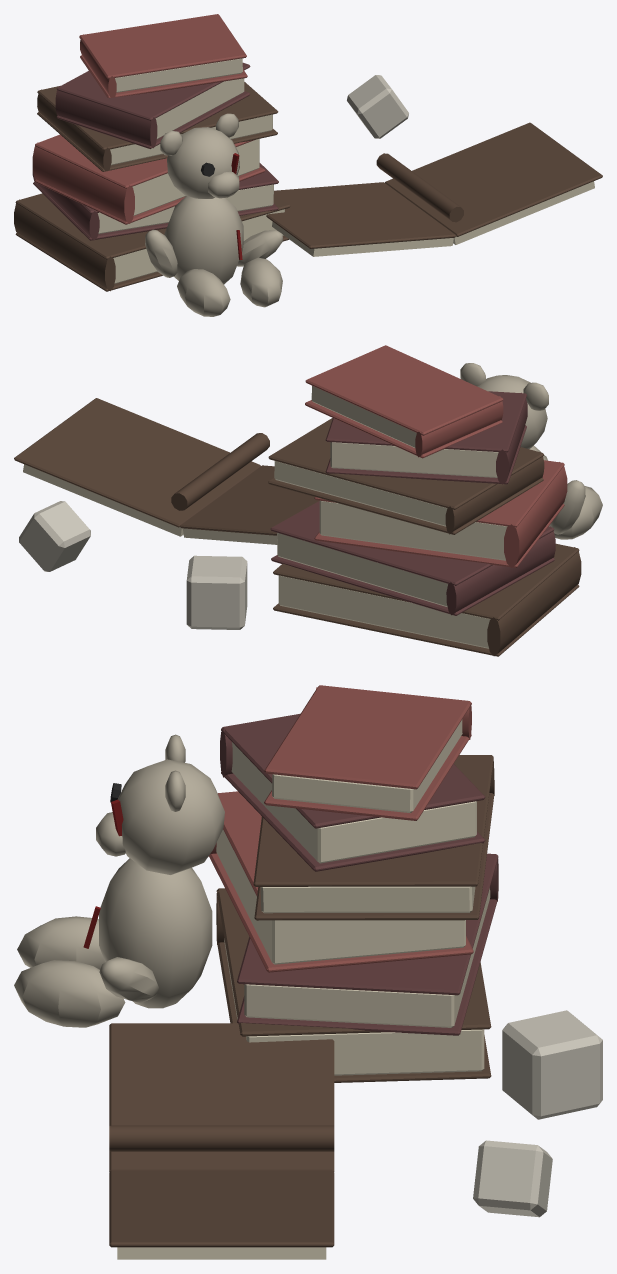
File: books_pile.glb
The picture shows the model from 3 angles, top to bottom: view 1: azimuth 30°, elevation 25°; view 2: azimuth 150°, elevation 25°; view 3: azimuth 270°, elevation 25°; orthographic projection. The views are drawn at different scales.
Visible parts, largest first — view 1: books_pile_static; view 2: books_pile_static; view 3: books_pile_static.
Part boxes in pixels (x1=…): books_pile_static: x1=14, y1=14, x2=602, y2=316; books_pile_static: x1=14, y1=345, x2=602, y2=656; books_pile_static: x1=14, y1=685, x2=602, y2=1259.
Size of the model in its own units: 0.6374 by 0.2503 by 0.4452.
